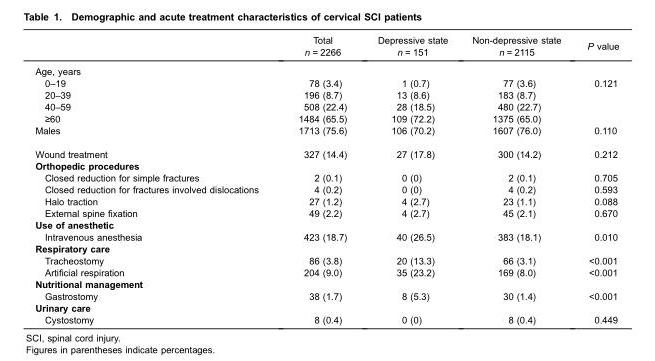table: (34, 34, 618, 324)
table column: (34, 34, 277, 324), (459, 34, 573, 324), (361, 34, 459, 324), (277, 34, 361, 324), (573, 34, 618, 324)
table column header: (34, 34, 618, 61)
table projected row header: (34, 61, 618, 76), (34, 159, 618, 171), (34, 218, 618, 230), (34, 242, 618, 254), (34, 277, 618, 289), (34, 301, 618, 313)
table row: (34, 34, 618, 61), (34, 141, 618, 159), (34, 124, 618, 141), (34, 61, 618, 76), (34, 76, 618, 89), (34, 100, 618, 112), (34, 112, 618, 124), (34, 159, 618, 171), (34, 171, 618, 183), (34, 183, 618, 195), (34, 206, 618, 218), (34, 218, 618, 230), (34, 230, 618, 242), (34, 242, 618, 254), (34, 254, 618, 266), (34, 277, 618, 289), (34, 289, 618, 301), (34, 301, 618, 313), (34, 89, 618, 100), (34, 195, 618, 206), (34, 266, 618, 277), (34, 313, 618, 324)
